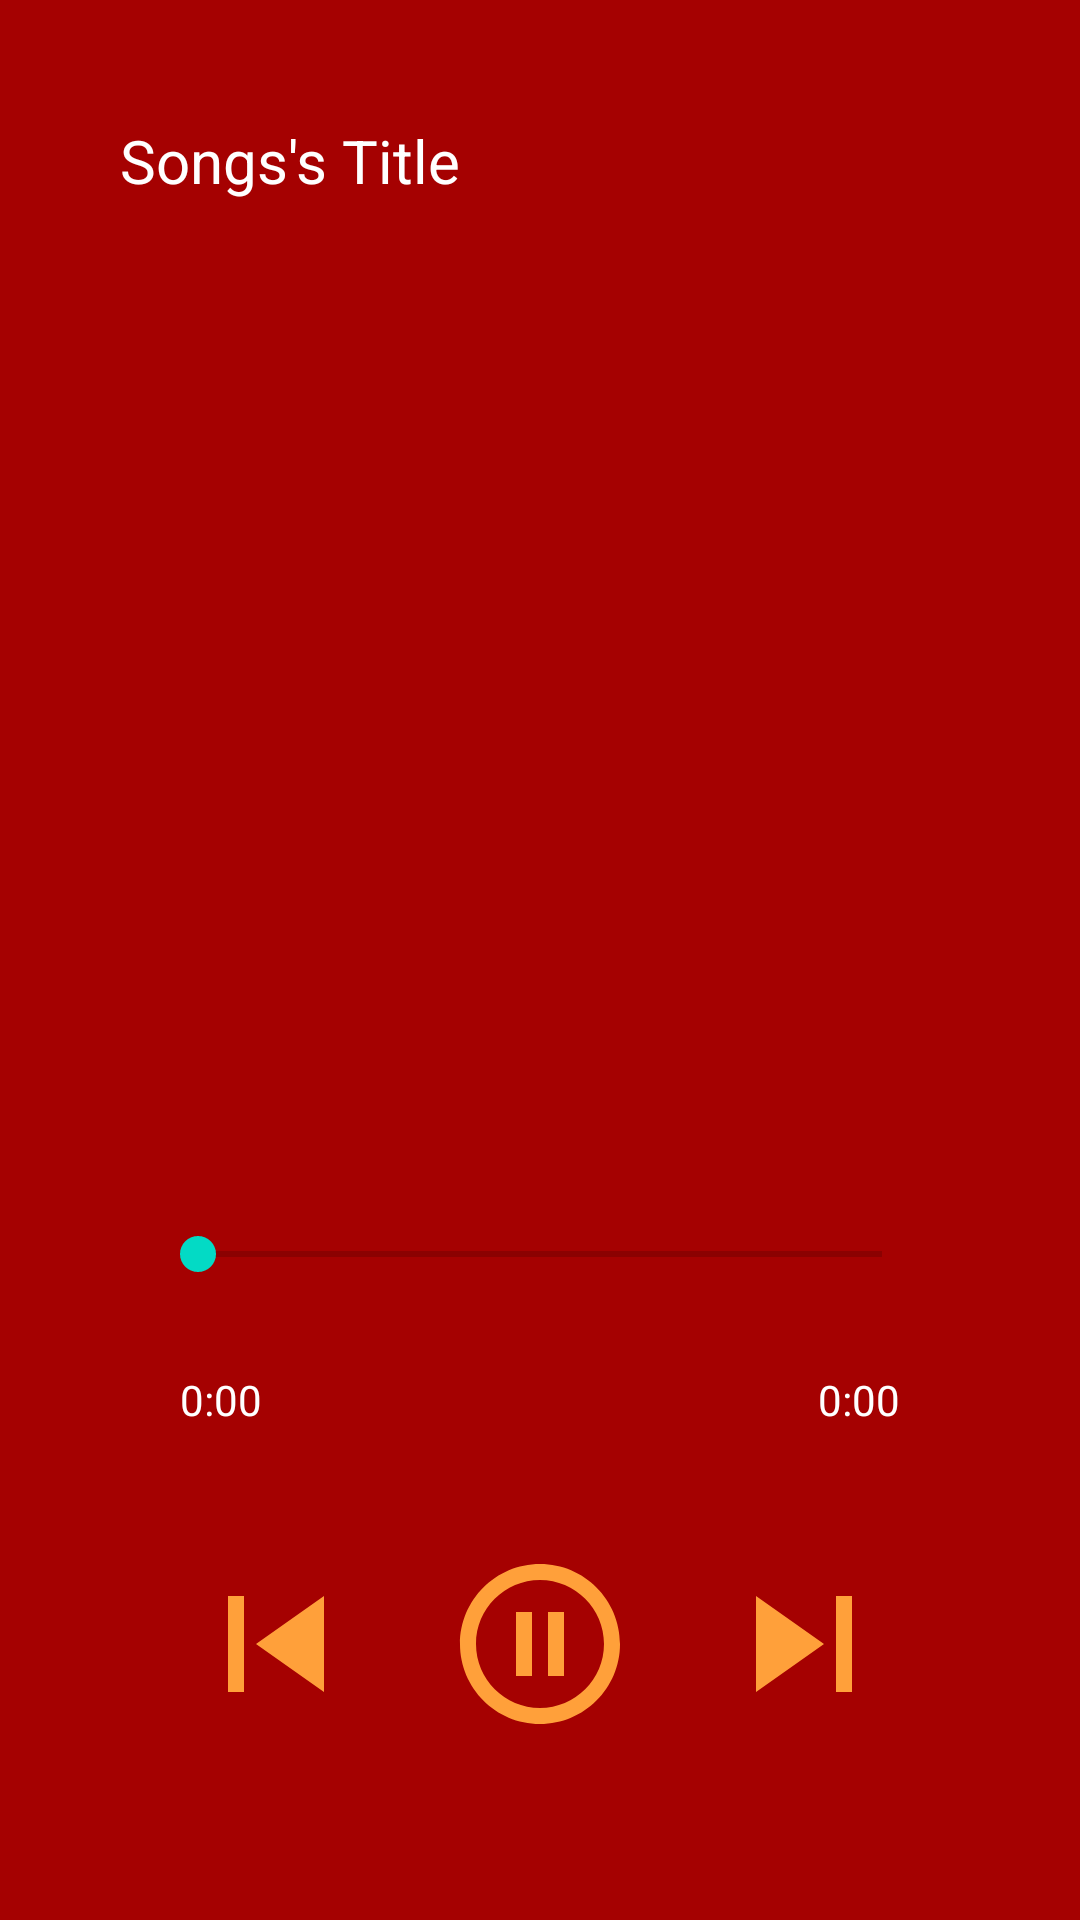

Icon click points for this 1080 × 1920 phone screenshot, format [x,y]:
pause circle: [540,1644]
skip next: [804,1644]
skip previous: [276,1644]
